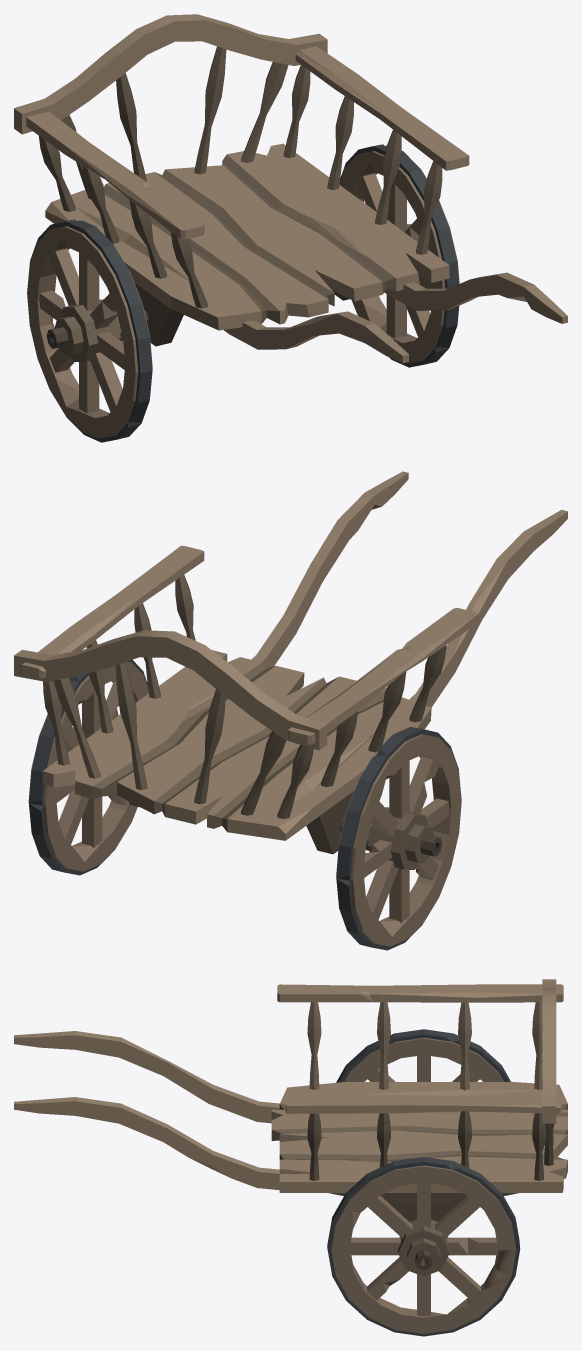
Rendered from SM_Prop_HandCart_01.fbx.
3 renders of one model, top to bottom at view 1: azimuth 30°, elevation 25°; view 2: azimuth 150°, elevation 25°; view 3: azimuth 270°, elevation 25°, orthographic. The views are drawn at different scales.
Visible parts, largest first — view 1: SM_Prop_HandCart_01, SM_Prop_HandCart_01_Wheel_r, SM_Prop_HandCart_01_Wheel_l; view 2: SM_Prop_HandCart_01, SM_Prop_HandCart_01_Wheel_r, SM_Prop_HandCart_01_Wheel_l; view 3: SM_Prop_HandCart_01, SM_Prop_HandCart_01_Wheel_l, SM_Prop_HandCart_01_Wheel_r.
Boxes of the visible parts, x1,y1,x2,y2 form: SM_Prop_HandCart_01: (14,14,567,363); SM_Prop_HandCart_01_Wheel_r: (27,219,152,442); SM_Prop_HandCart_01_Wheel_l: (339,144,459,367); SM_Prop_HandCart_01: (14,471,567,856); SM_Prop_HandCart_01_Wheel_r: (336,727,461,950); SM_Prop_HandCart_01_Wheel_l: (28,659,148,875); SM_Prop_HandCart_01: (14,979,567,1270); SM_Prop_HandCart_01_Wheel_l: (327,1157,520,1336); SM_Prop_HandCart_01_Wheel_r: (336,1029,510,1082).
Size of the model in its own units: 188 by 151 by 275.
1 material, 1 textured.
